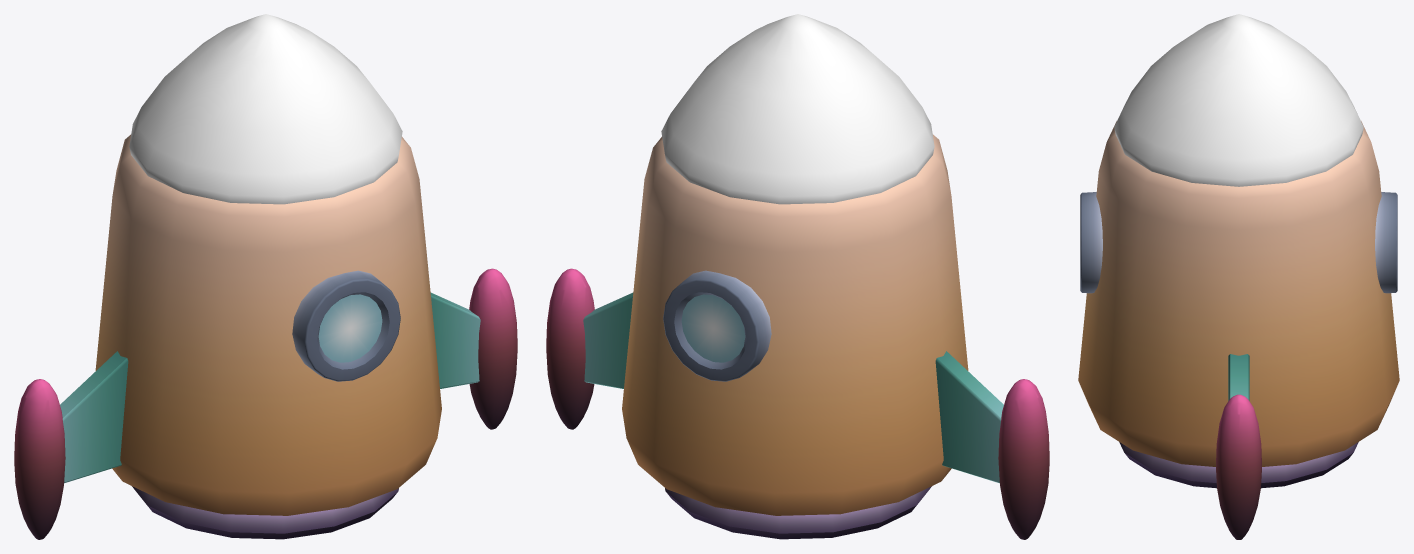
The model's file is SM_Rocket.fbx.
3 renders of one model, left to right at view 1: azimuth 30°, elevation 25°; view 2: azimuth 150°, elevation 25°; view 3: azimuth 270°, elevation 25°, orthographic. The views are drawn at different scales.
Parts seen in each view (by area): view 1: SM_Rocket.001; view 2: SM_Rocket.001; view 3: SM_Rocket.001.
Boxes of the visible parts, <box> form: SM_Rocket.001: <box>14,14,517,539</box>; SM_Rocket.001: <box>546,14,1049,539</box>; SM_Rocket.001: <box>1078,14,1399,539</box>.
Size of the model in its own units: 107 by 96.7 by 66.14.
